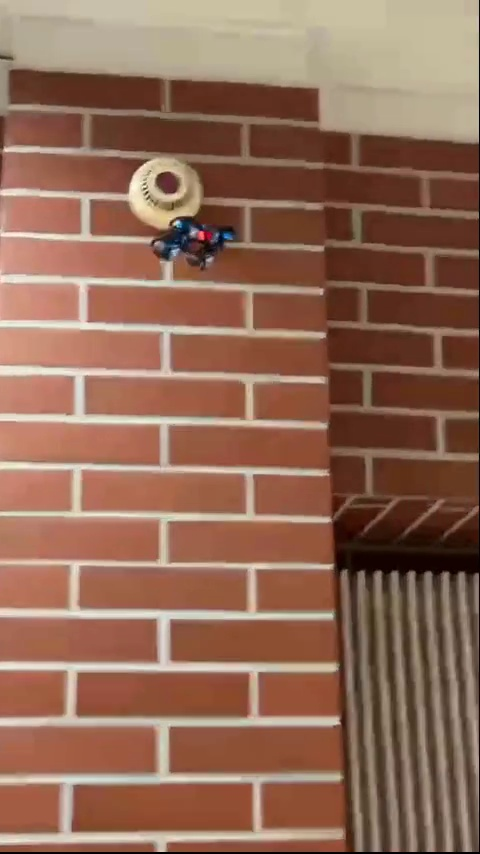drone: (151, 217, 237, 272)
